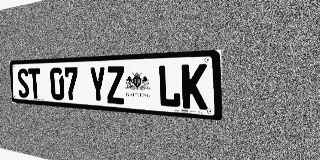0: (50, 67, 65, 100)
7: (63, 67, 79, 101)
K: (181, 64, 207, 110)
L: (157, 64, 181, 108)
S: (17, 68, 30, 98)
T: (28, 68, 42, 99)
Y: (89, 66, 107, 103)
Z: (106, 66, 125, 104)
